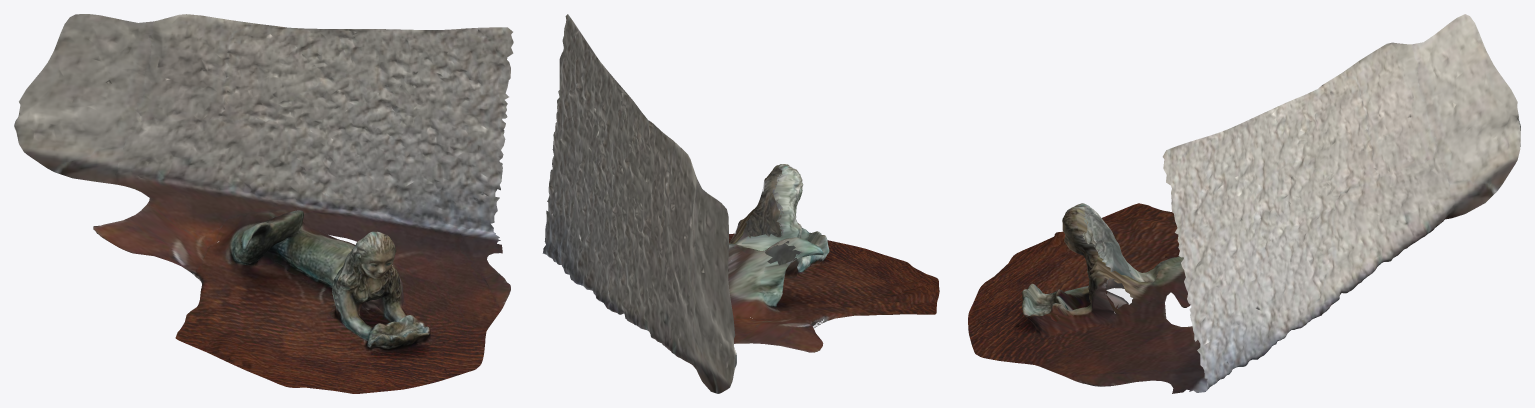
File: meermin - kopie.glb
3 views of the same model, side by side, from view 1: azimuth 30°, elevation 25°; view 2: azimuth 150°, elevation 25°; view 3: azimuth 270°, elevation 25° (orthographic). The views are drawn at different scales.
Parts seen in each view (by area): view 1: meermin; view 2: meermin; view 3: meermin.
Part boxes in pixels (box(x1,y1,x2,y2)): meermin: box(14, 14, 513, 393); meermin: box(542, 14, 939, 393); meermin: box(968, 14, 1520, 393).
Size of the model in its own units: 38.18 by 25.72 by 48.23.
Materials: 2 (1 with a texture image).
